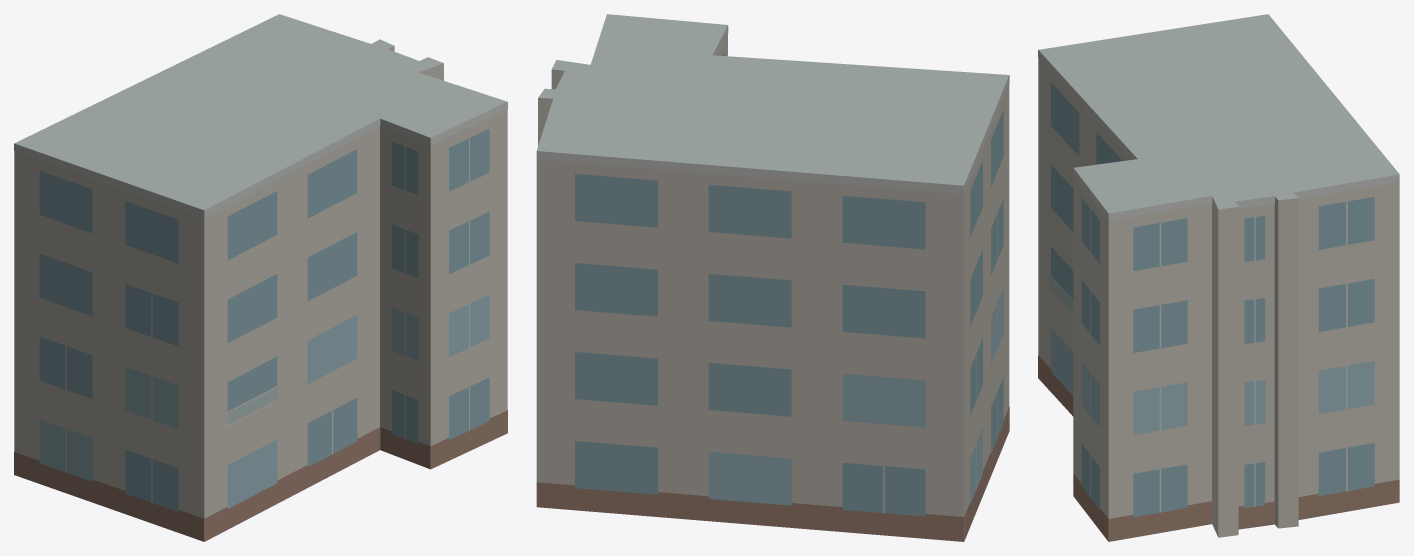
The model's file is survey-upis-32852996.glb.
The picture shows the model from 3 angles, left to right: view 1: azimuth 30°, elevation 25°; view 2: azimuth 150°, elevation 25°; view 3: azimuth 270°, elevation 25°; orthographic projection. The views are drawn at different scales.
Visible parts, largest first — view 1: survey-upis-32852996.tmp; view 2: survey-upis-32852996.tmp; view 3: survey-upis-32852996.tmp.
Part boxes in pixels (left/top/right/bottom): survey-upis-32852996.tmp: left=14, top=14, right=507, bottom=541; survey-upis-32852996.tmp: left=536, top=14, right=1009, bottom=541; survey-upis-32852996.tmp: left=1038, top=14, right=1399, bottom=541.
Bounding box in the file's own units: 13.7 × 10.5 × 10.49.
